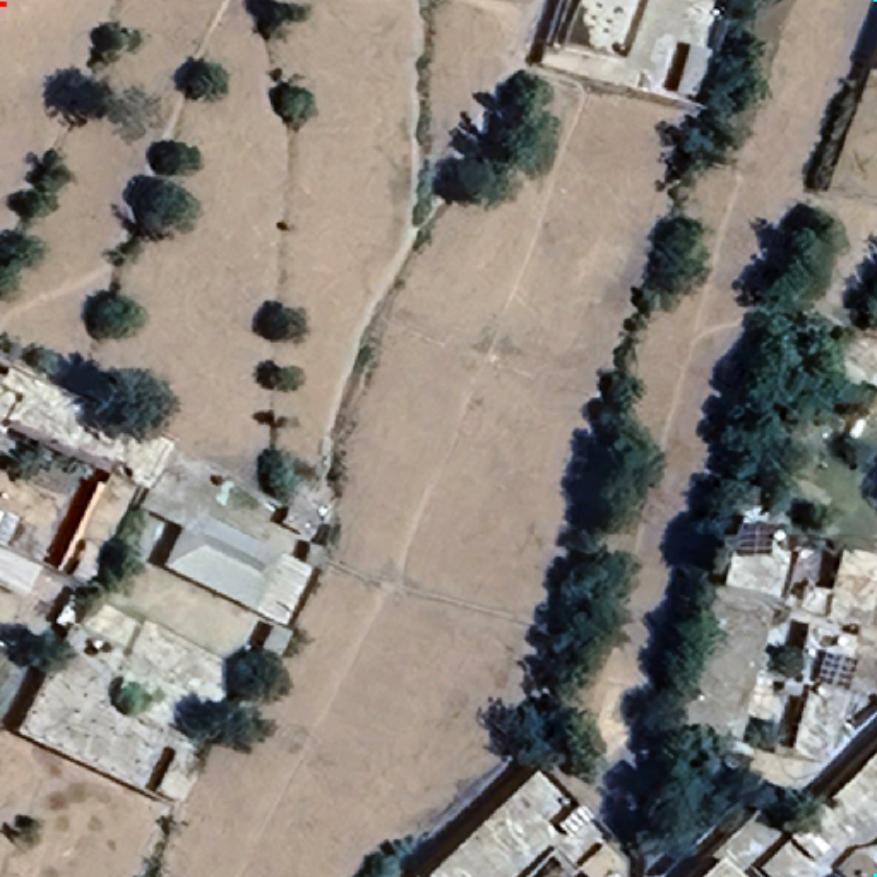Solarpanel: (816, 650, 860, 690), (733, 521, 776, 557)
